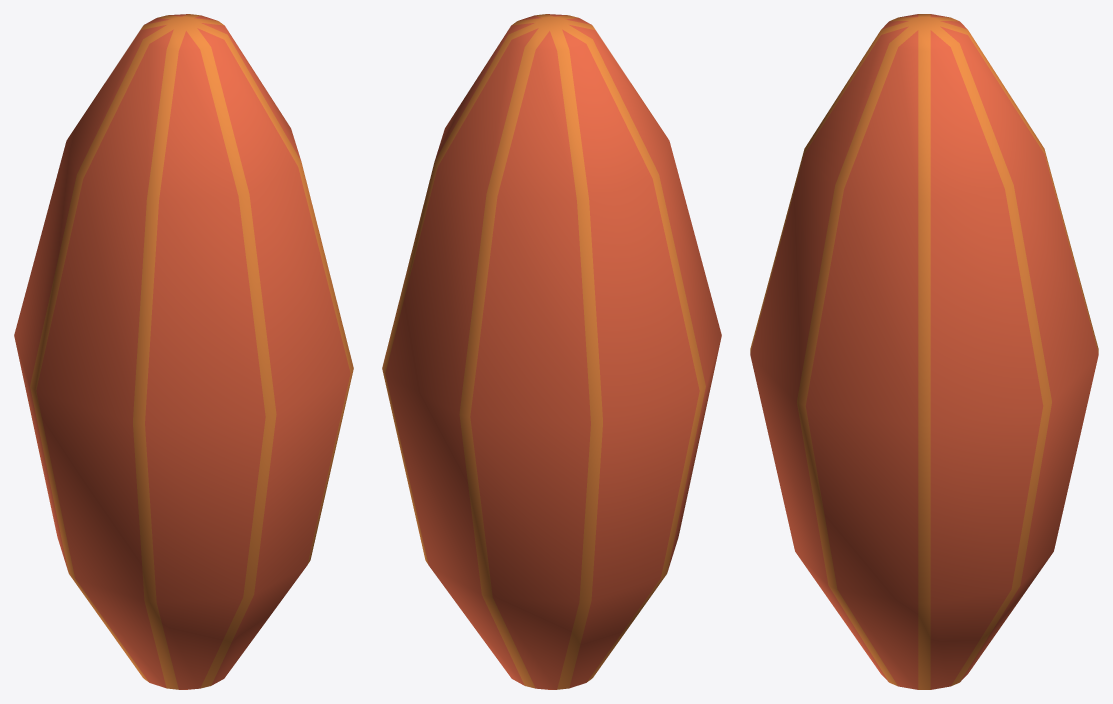
The model's file is Cacao.fbx.
3 views of the same model, side by side, from view 1: azimuth 30°, elevation 25°; view 2: azimuth 150°, elevation 25°; view 3: azimuth 270°, elevation 25° (orthographic).
Parts seen in each view (by area): view 1: Cacao; view 2: Cacao; view 3: Cacao.
Part boxes in pixels (box(x1,y1,x2,y2)): Cacao: box(14, 14, 353, 689); Cacao: box(382, 14, 721, 689); Cacao: box(750, 14, 1098, 689).
Bounding box in the file's own units: 0.7275 × 1.52 × 0.7275.
